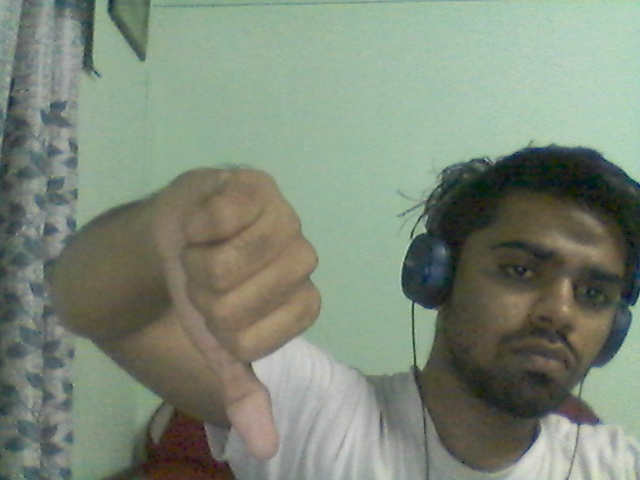No: (99, 152, 338, 479)
